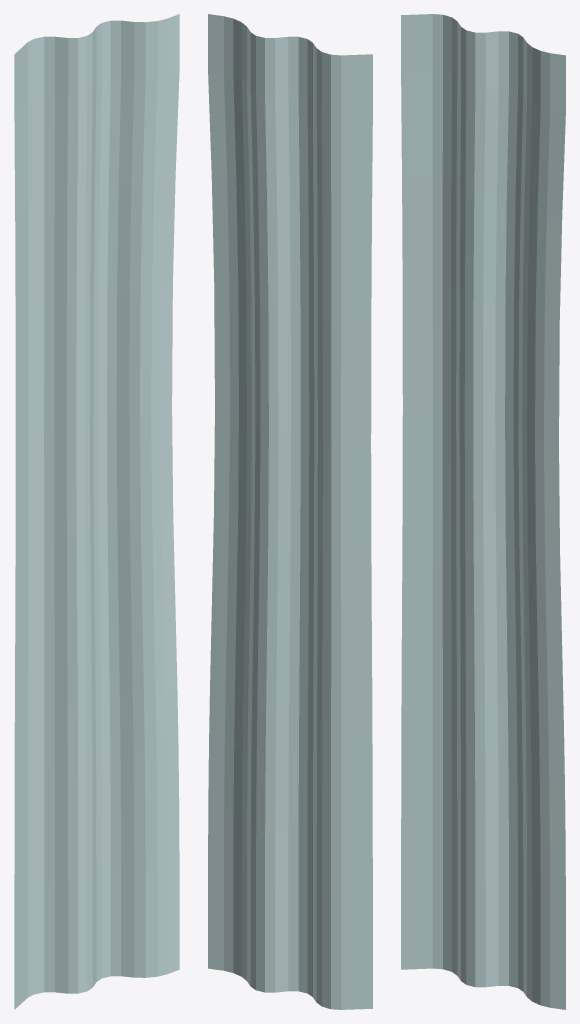
Rendered from cortina01.obj.
3 renders of one model, left to right at view 1: azimuth 30°, elevation 25°; view 2: azimuth 150°, elevation 25°; view 3: azimuth 330°, elevation 25°, orthographic.
Parts seen in each view (by area): view 1: cortina_Plane.003; view 2: cortina_Plane.003; view 3: cortina_Plane.003.
Boxes of the visible parts, <box> form: cortina_Plane.003: <box>14,14,179,1009</box>; cortina_Plane.003: <box>208,14,372,1009</box>; cortina_Plane.003: <box>401,14,565,1009</box>.
Size of the model in its own units: 1.73 by 9.55 by 0.2293.
